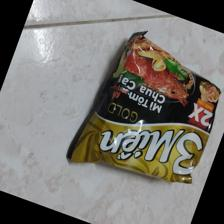3mien: (66, 31, 223, 185)
